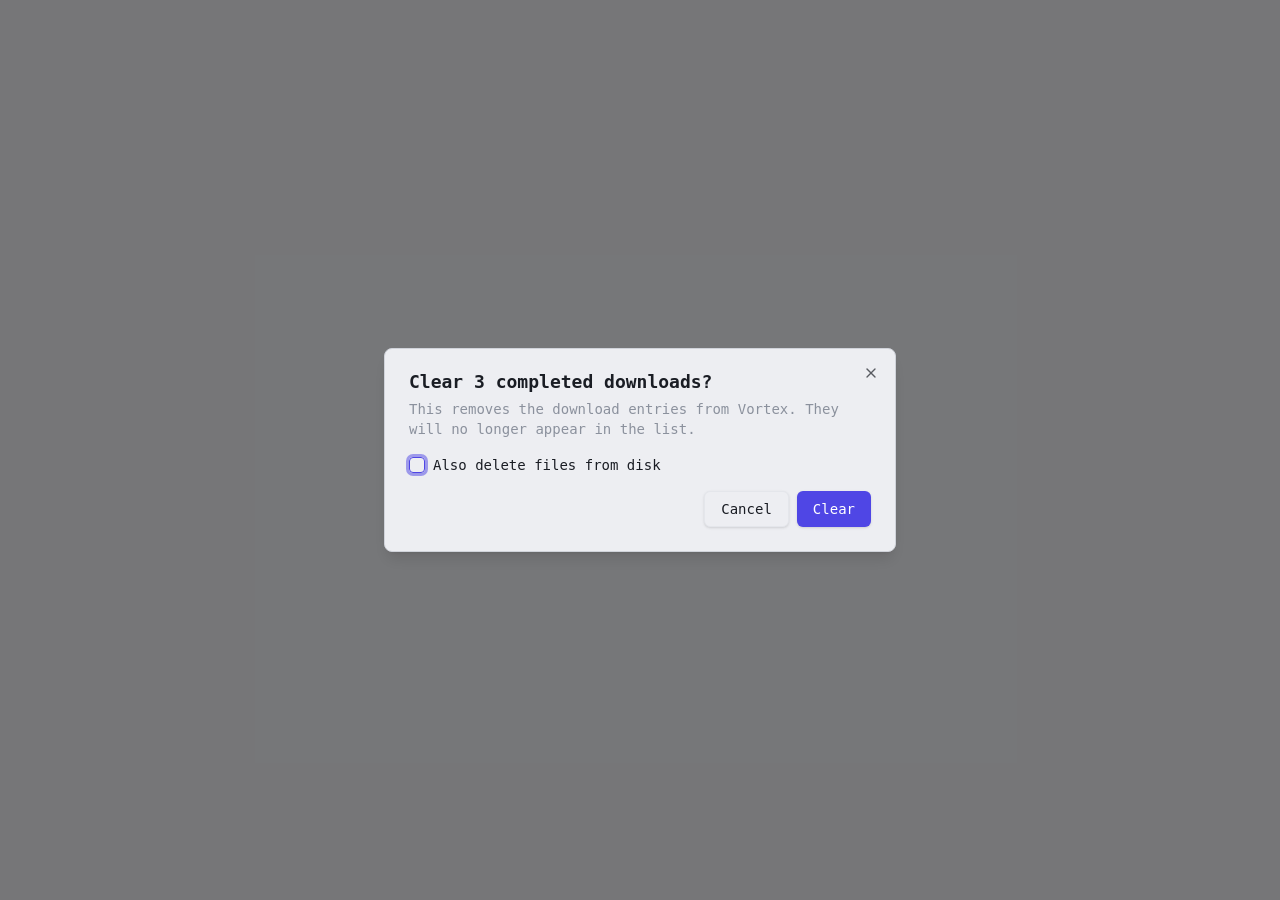
Test: ClearDownloadsDialog › reveals the warning panel when the checkbox is checked
The width and height of the screenshot is (1280, 900).
Click the checkbox named "also delete files from disk" at (417, 465), box [409,457,425,473]
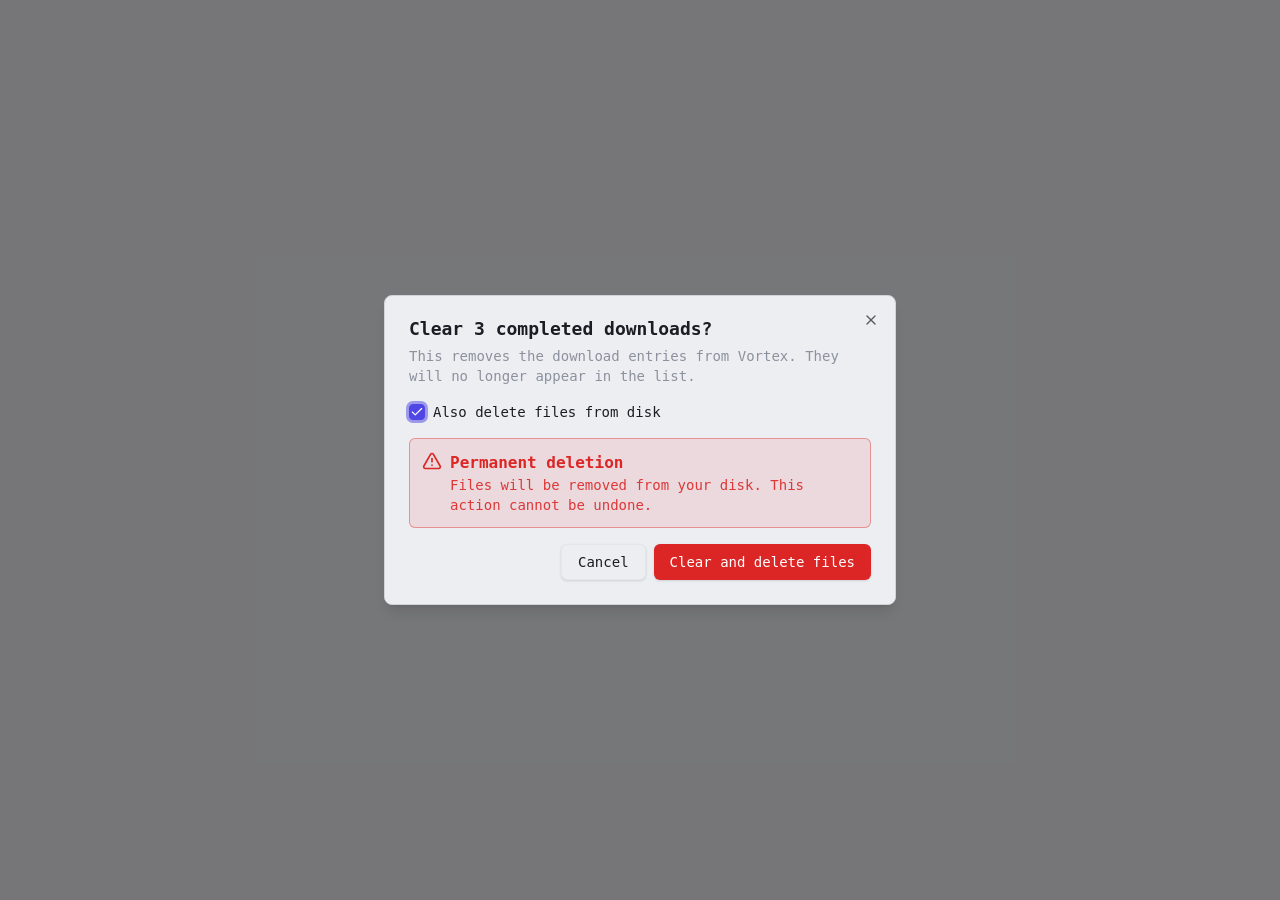
Result: the text "Permanent deletion" is shown at [450,453,623,472]
